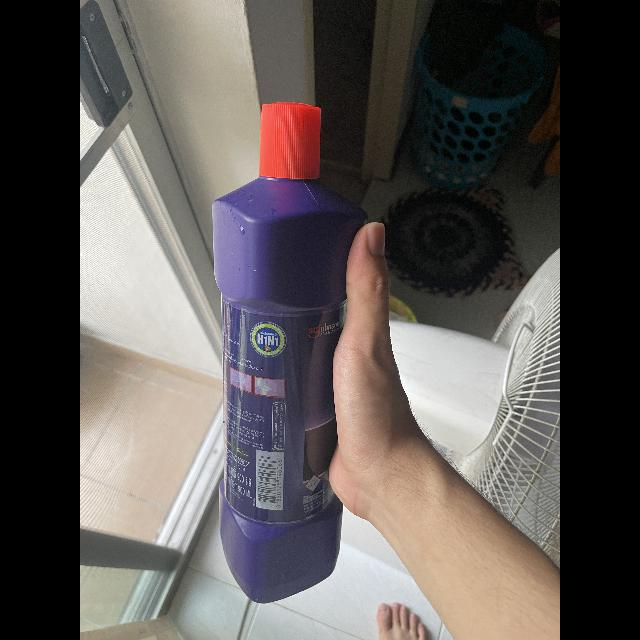chemical_plastic_bottle: (206, 95, 362, 608)
